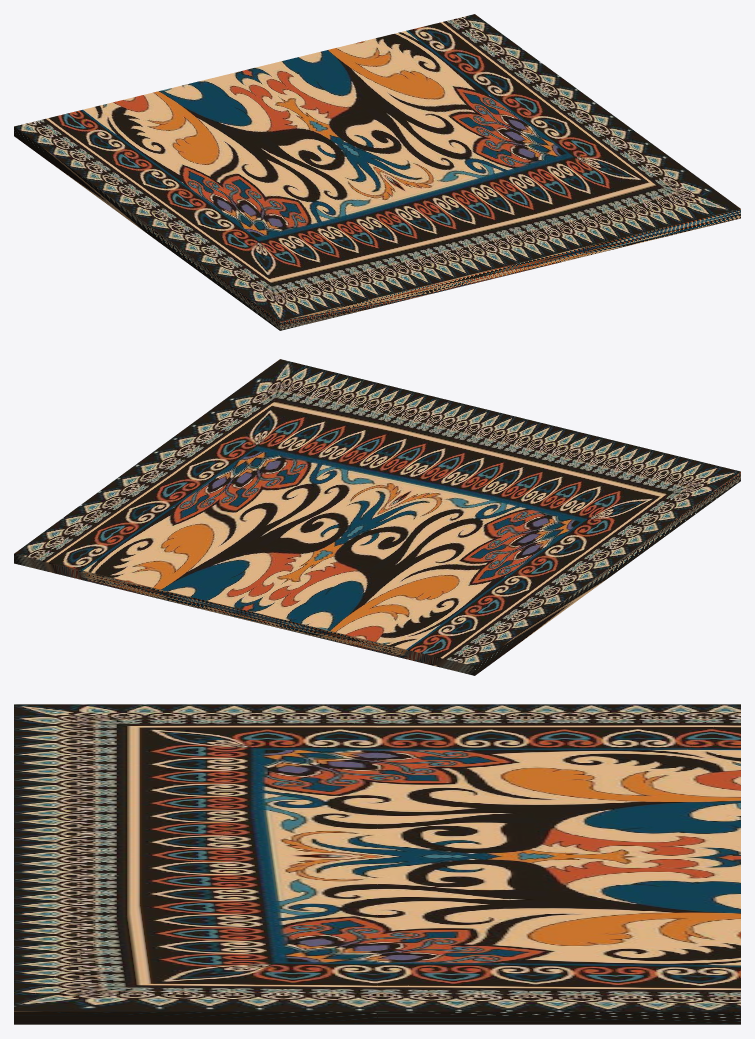
Rendered from tapete_beira.fbx.
3 renders of one model, top to bottom at view 1: azimuth 30°, elevation 25°; view 2: azimuth 150°, elevation 25°; view 3: azimuth 270°, elevation 25°, orthographic. The views are drawn at different scales.
Visible parts, largest first — view 1: tapete_beira; view 2: tapete_beira; view 3: tapete_beira.
Part boxes in pixels (left/top/right/bottom): tapete_beira: left=14, top=14, right=740, bottom=330; tapete_beira: left=14, top=359, right=740, bottom=675; tapete_beira: left=14, top=704, right=740, bottom=1024.
Size of the model in its own units: 1 by 0.02 by 1.
